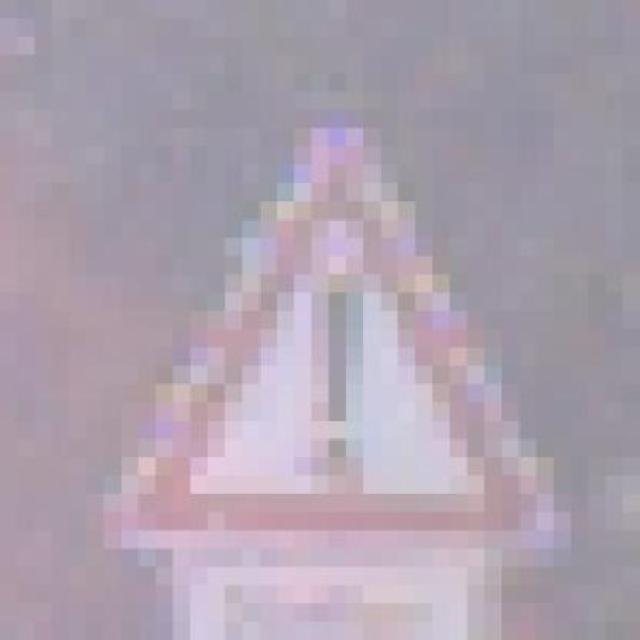Attention Please-: (77, 90, 578, 584)
